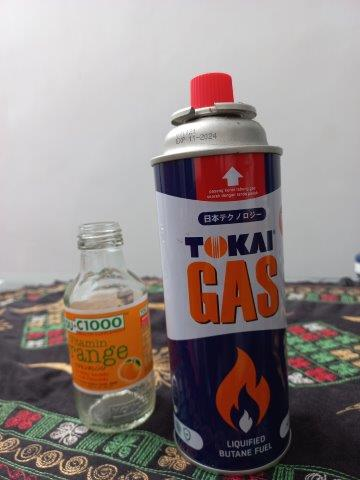botolkaca: (64, 222, 156, 434)
kaleng: (151, 75, 292, 473)
